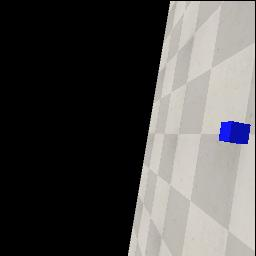box: (219, 121, 251, 144)
